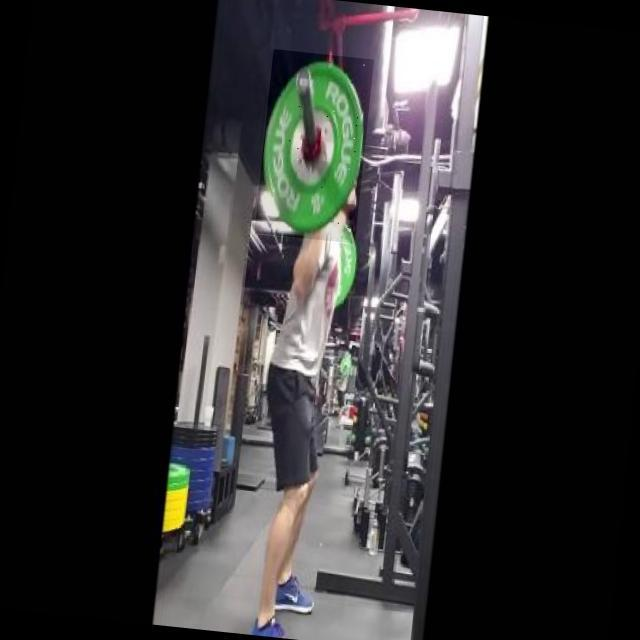barbell: (255, 50, 375, 244)
